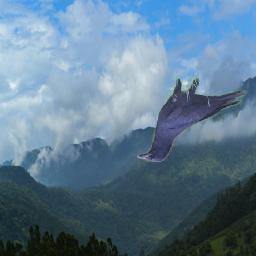Crow: (138, 70, 247, 163)
